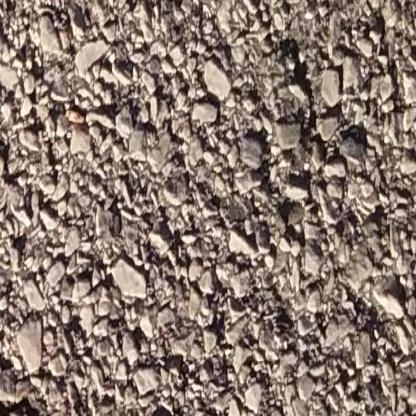Cracks: (199, 0, 385, 193), (0, 348, 71, 416)
